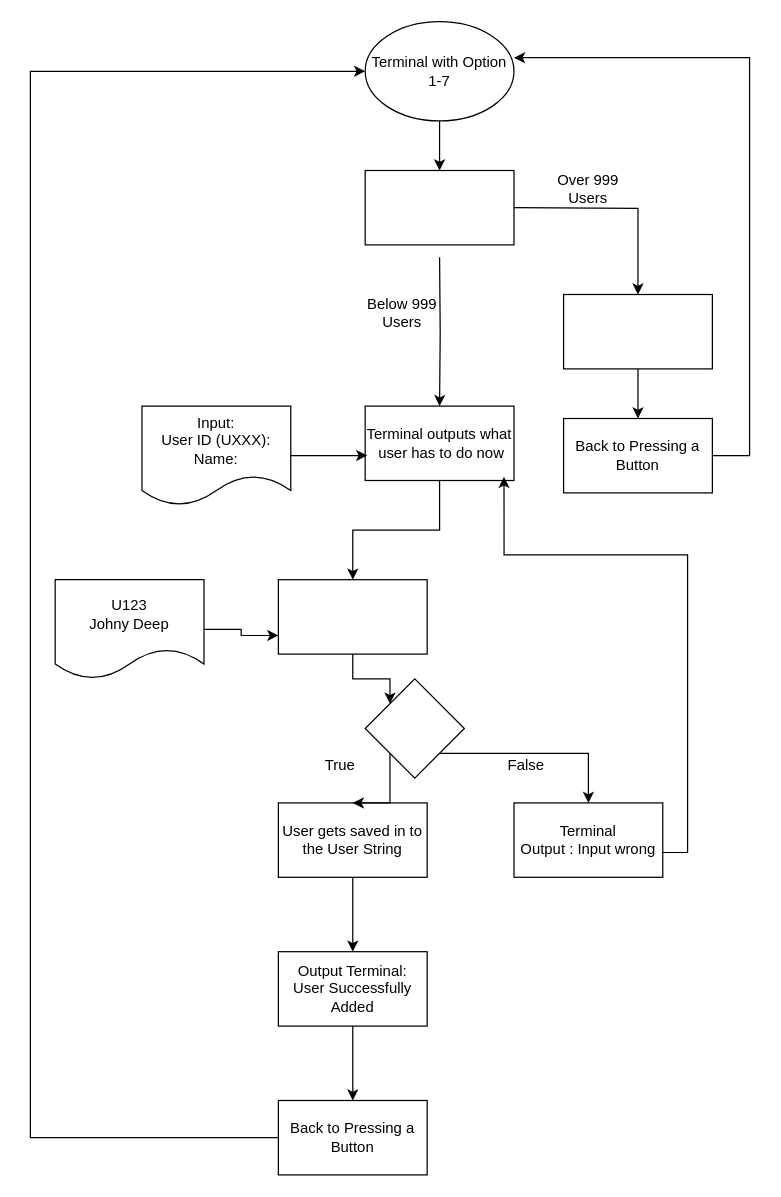
Some shapes in this 781 by 1197 pixel diagram are drawn without their labels. Each missing label, with the box of its shape:
Bedingungen Erfüllt: (364, 678, 464, 778)
Input from user: (277, 578, 427, 654)
Terminal Output: To many users: (562, 293, 712, 369)
User is choosing Chase 1: (364, 169, 514, 245)
